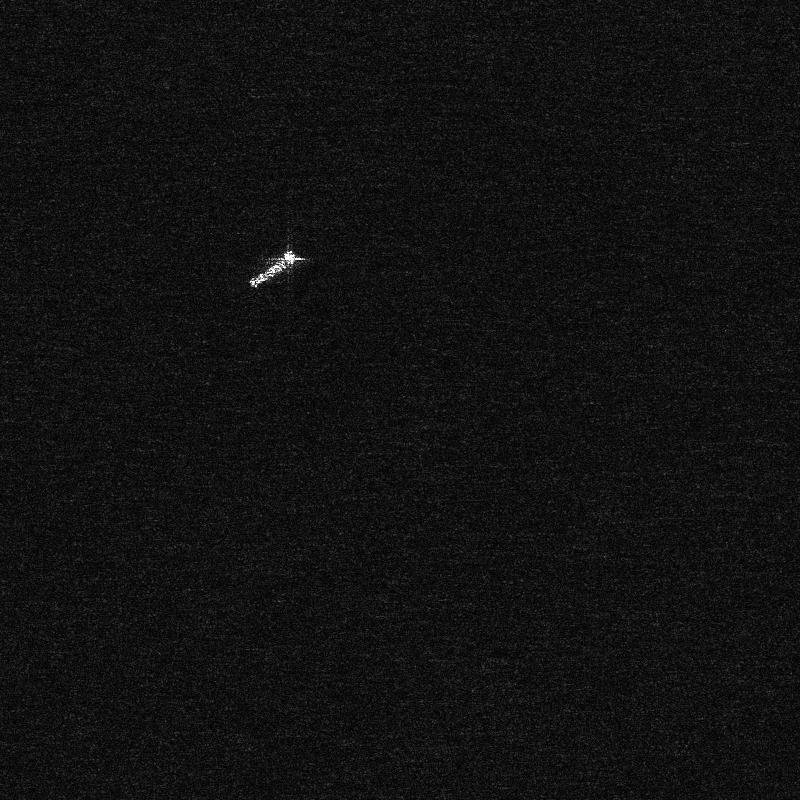ship: (249, 250, 304, 287)
